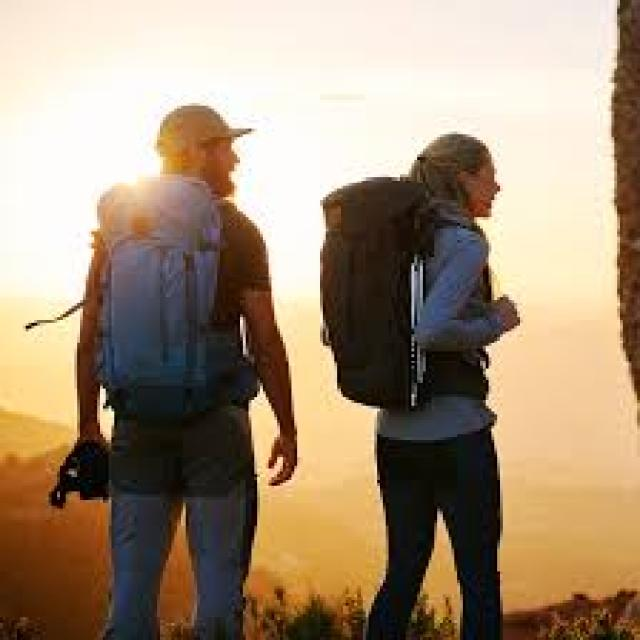backpack: (73, 105, 264, 448), (309, 164, 524, 417)
